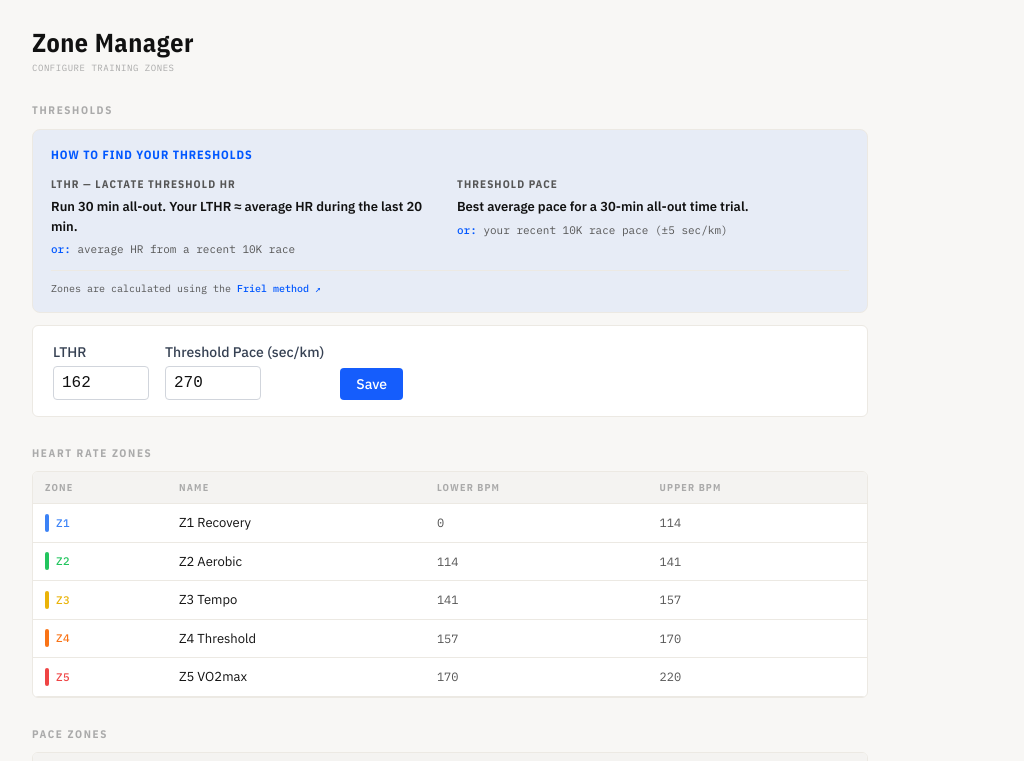
it: test_error_on_failure › save fails → error message shown
Click the button "Save".
click(372, 384)  # box [340,368,403,400]
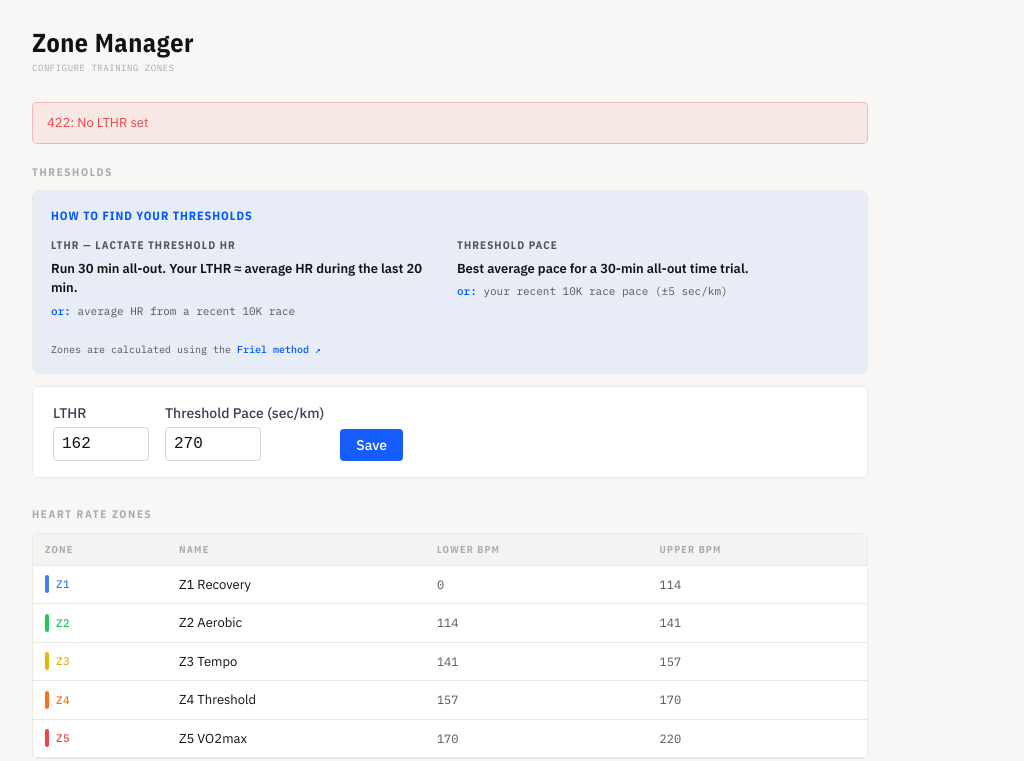
Result: the message reads "422: No LTHR set" at [47,114,148,131]
